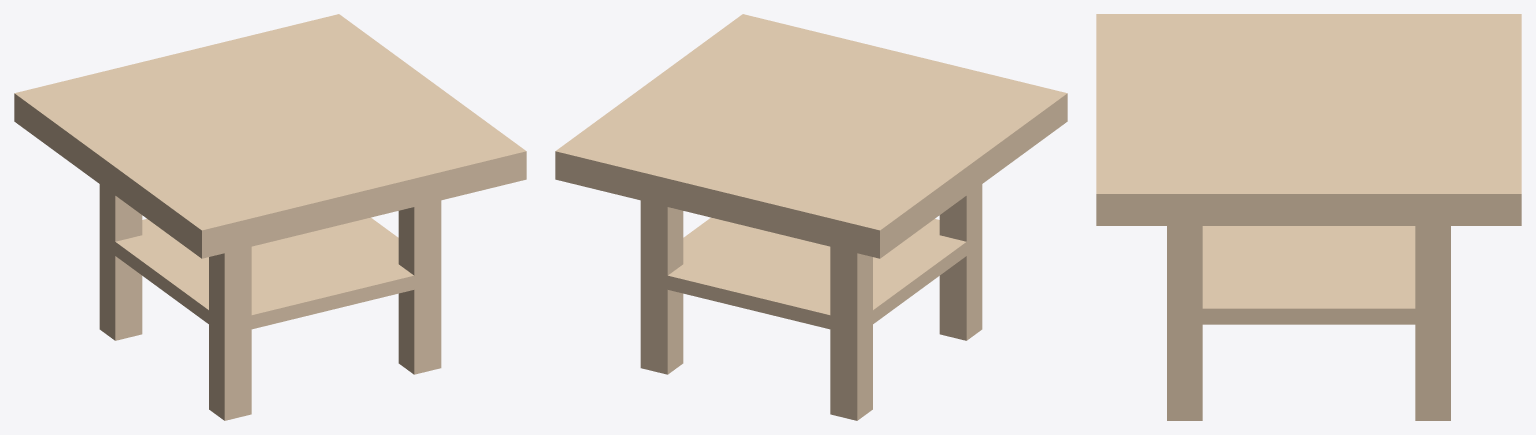
3 views of the same model, side by side, from view 1: azimuth 30°, elevation 25°; view 2: azimuth 150°, elevation 25°; view 3: azimuth 270°, elevation 25° (orthographic). The views are drawn at different scales.
Visible parts, largest first — view 1: mesh; view 2: mesh; view 3: mesh.
Part boxes in pixels (box(x1,y1,x2,y2)): mesh: box(14, 14, 526, 420); mesh: box(555, 14, 1067, 420); mesh: box(1096, 14, 1521, 420).
Bounding box in the file's own units: 0.6096 × 0.4064 × 0.6096.
